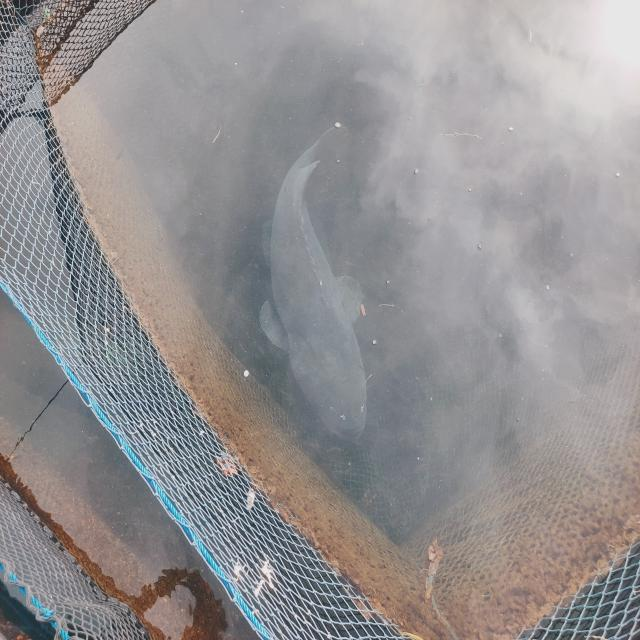ikan: (272, 127, 384, 438)
